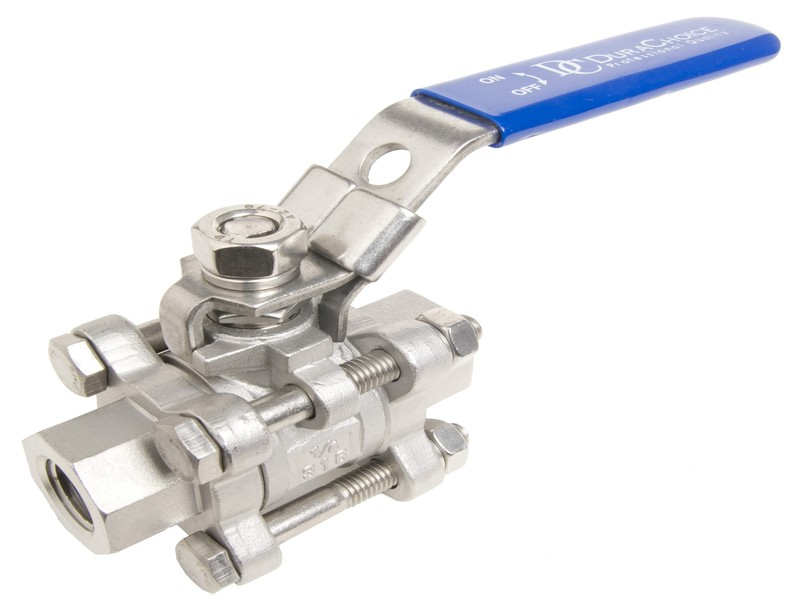valve: (8, 18, 792, 595)
